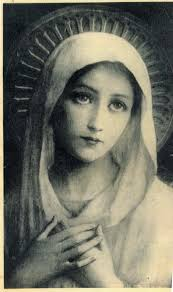middle_eastern_Female: (55, 54, 142, 162)
